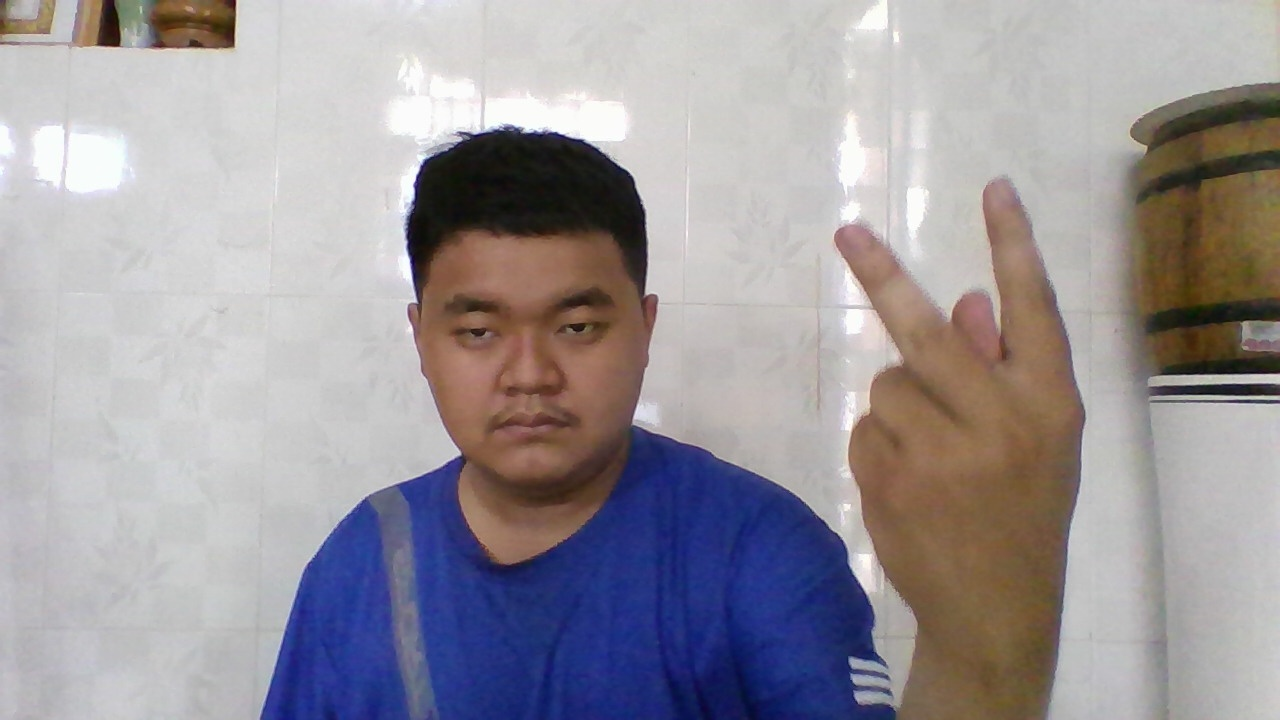K: (827, 177, 1078, 640)
